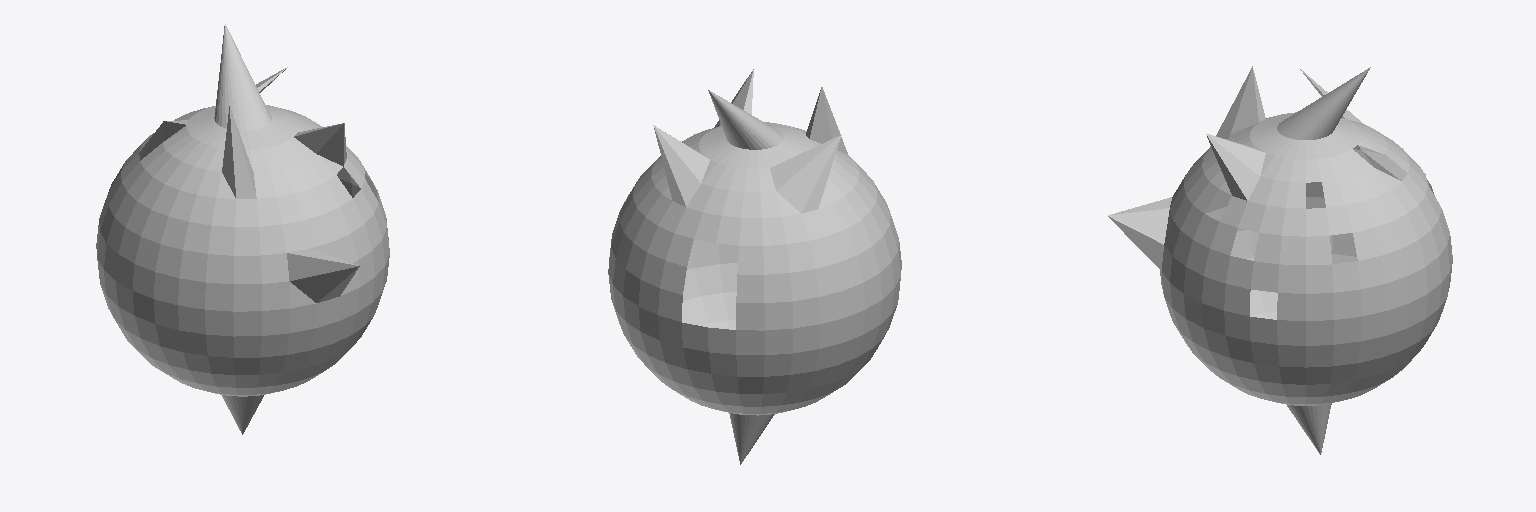
The model's file is testSphere.obj.
The picture shows the model from 3 angles: view 1: azimuth 30°, elevation 25°; view 2: azimuth 150°, elevation 25°; view 3: azimuth 270°, elevation 25°; orthographic projection.
Visible parts, largest first — view 1: 球; view 2: 球; view 3: 球.
Boxes of the visible parts, box(x1,y1,x2,y2) form: 球: box(96, 24, 389, 434); 球: box(608, 69, 901, 464); 球: box(1108, 66, 1452, 454).
Size of the model in its own units: 2 by 2.94 by 2.35.